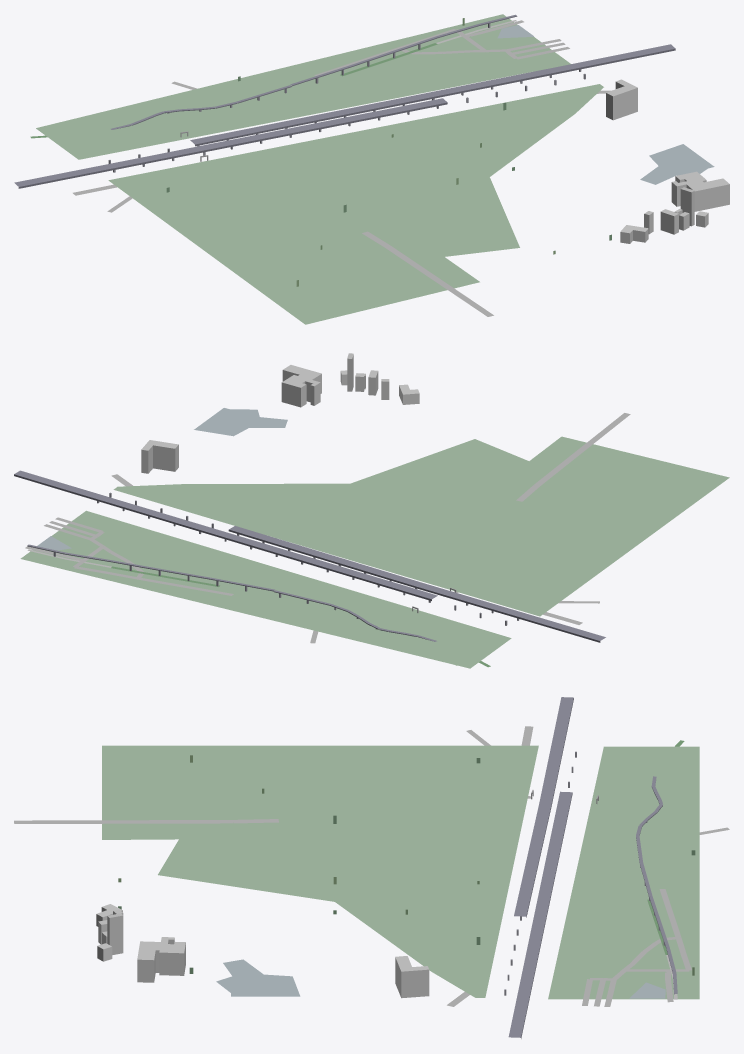
The picture shows the model from 3 angles, top to bottom: view 1: azimuth 30°, elevation 25°; view 2: azimuth 150°, elevation 25°; view 3: azimuth 270°, elevation 25°; orthographic projection. The views are drawn at different scales.
Size of the model in its own units: 678 by 39.21 by 599.
